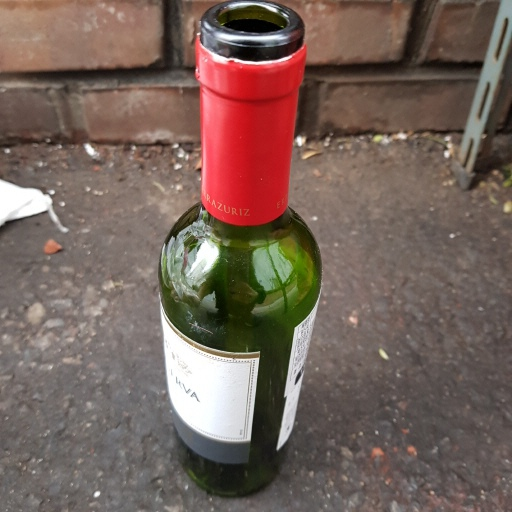Glass_2: (156, 2, 327, 498)
